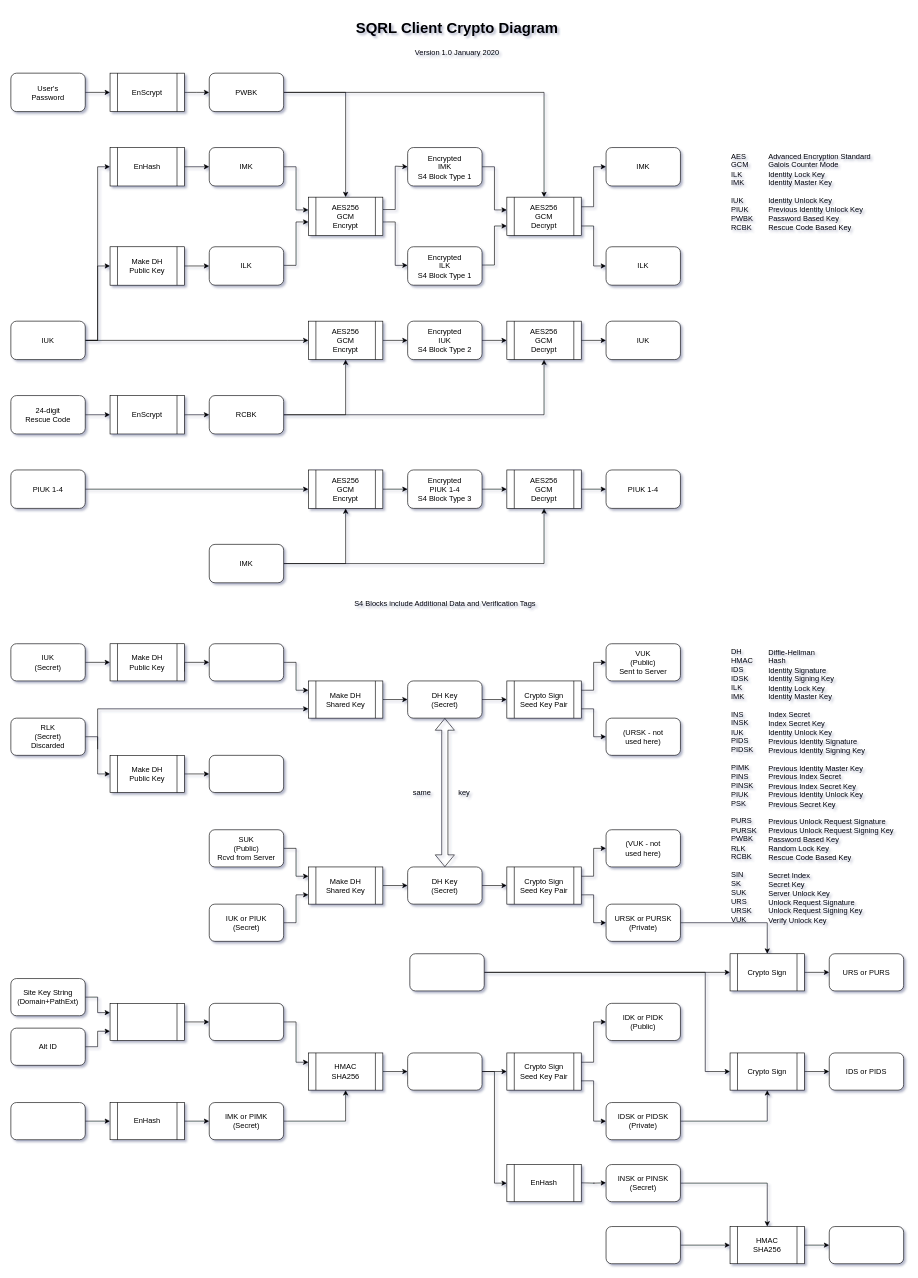
The diagram is 918 pixels wide and 1278 high, and some of its shapes have lost their labels. The box of each missing label's shape, as (x1, y1, x2, y2) in pixels:
Concatenate using null: (109, 1003, 184, 1041)
ILK (Public): (209, 643, 284, 681)
Input to Hash: (209, 1003, 284, 1041)
INS or PINS: (829, 1226, 904, 1264)
IUK or PIUK: (10, 1102, 85, 1140)
Message (client+server data): (409, 953, 484, 991)
SIN (Public) Rcvd from Server: (605, 1226, 680, 1264)
SK or PSK (Secret): (407, 1052, 482, 1090)
SUK (Public) Sent to Server: (209, 755, 284, 793)
